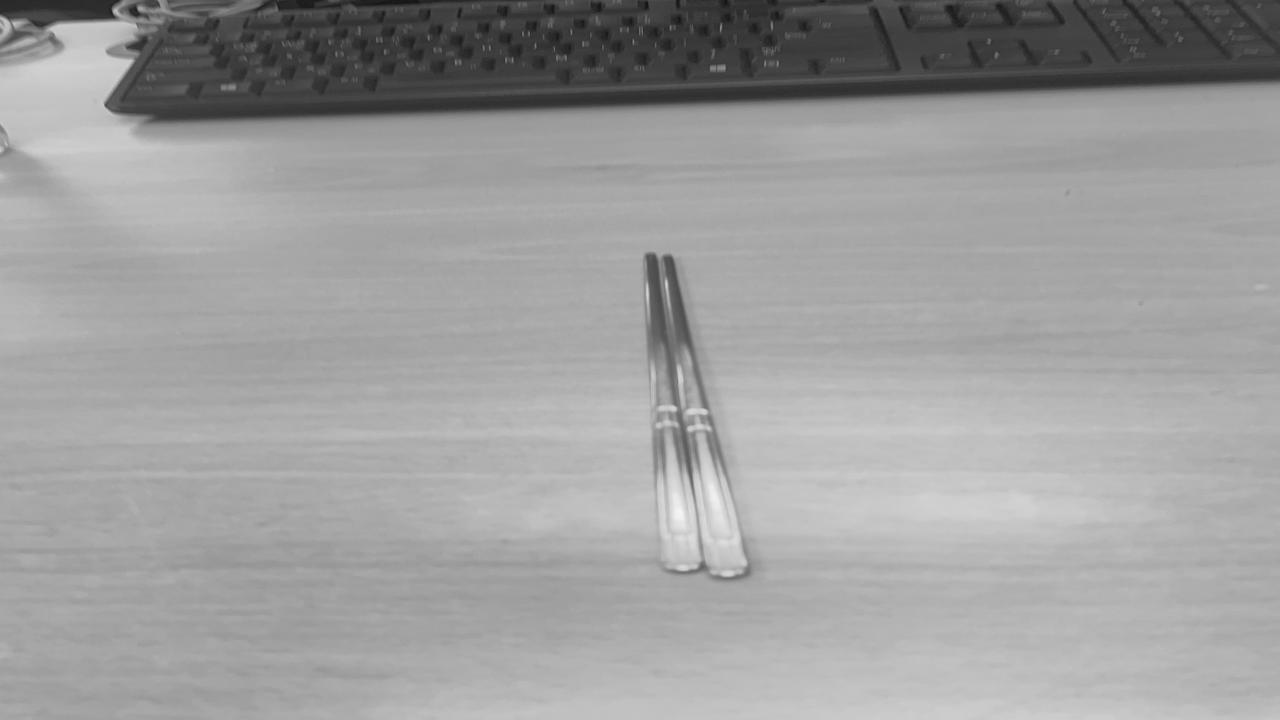chopstick: (645, 254, 745, 574)
